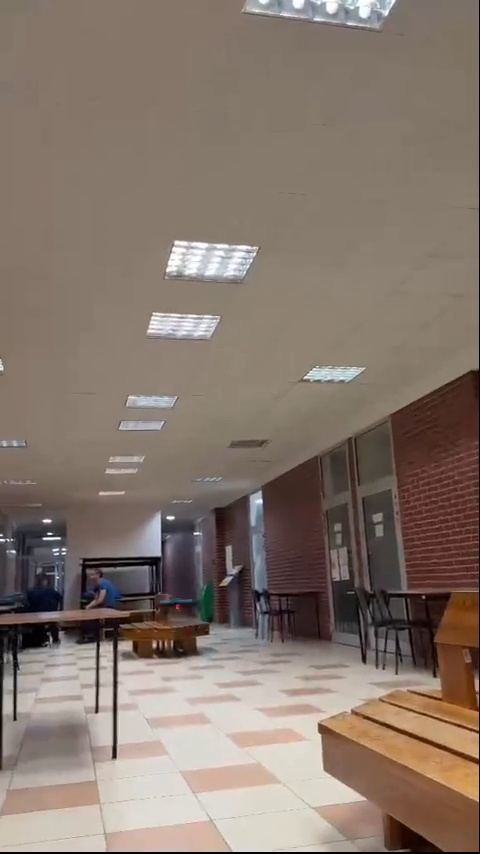drone: (156, 597, 192, 614)
no vest: (21, 571, 65, 613), (87, 565, 125, 606)
